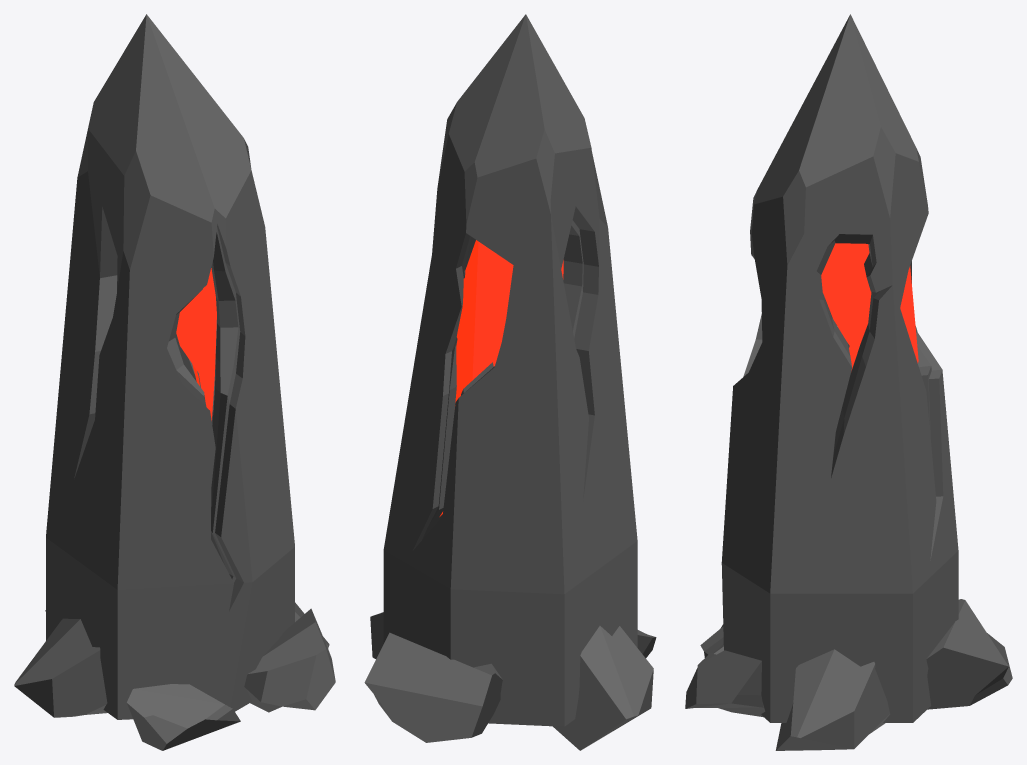
Rendered from UnstableObelisk.fbx.
3 views of the same model, side by side, from view 1: azimuth 30°, elevation 25°; view 2: azimuth 150°, elevation 25°; view 3: azimuth 270°, elevation 25° (orthographic). The views are drawn at different scales.
Parts seen in each view (by area): view 1: Cube, InnerCrystal; view 2: Cube, InnerCrystal; view 3: Cube, InnerCrystal.
Boxes of the visible parts, bbox=[...] form: Cube: bbox=[14, 14, 335, 750]; InnerCrystal: bbox=[176, 268, 216, 420]; Cube: bbox=[364, 14, 656, 750]; InnerCrystal: bbox=[439, 240, 563, 516]; Cube: bbox=[685, 14, 1012, 750]; InnerCrystal: bbox=[821, 243, 918, 370].
Size of what is drawn, in the model's own units: 450 by 1054 by 459.
